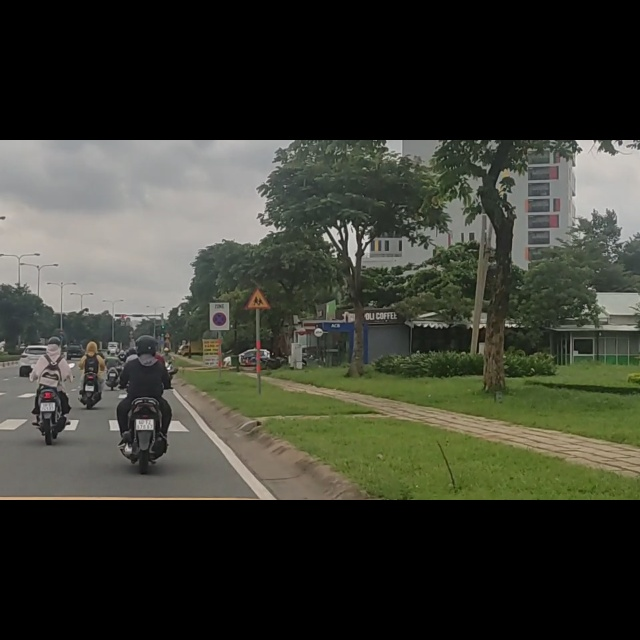bien_nguy_hiem: (245, 261, 271, 302), (213, 307, 227, 332)
